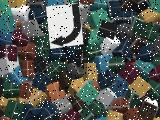Right: (46, 3, 84, 49)
